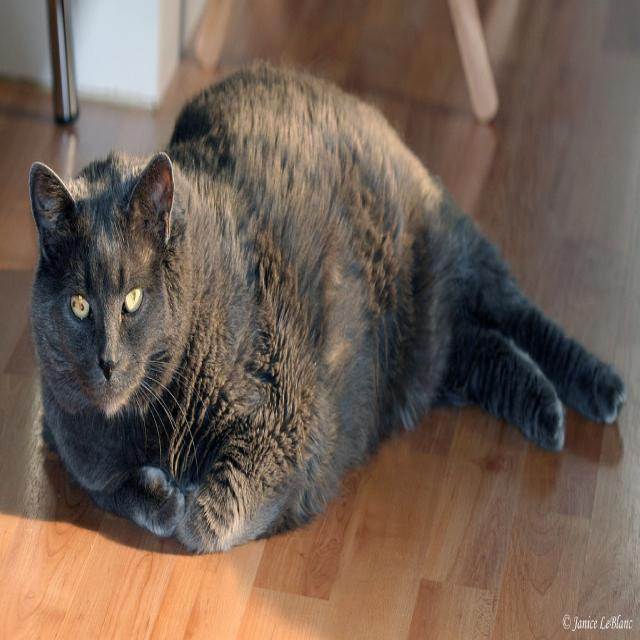cat: (29, 59, 629, 557)
